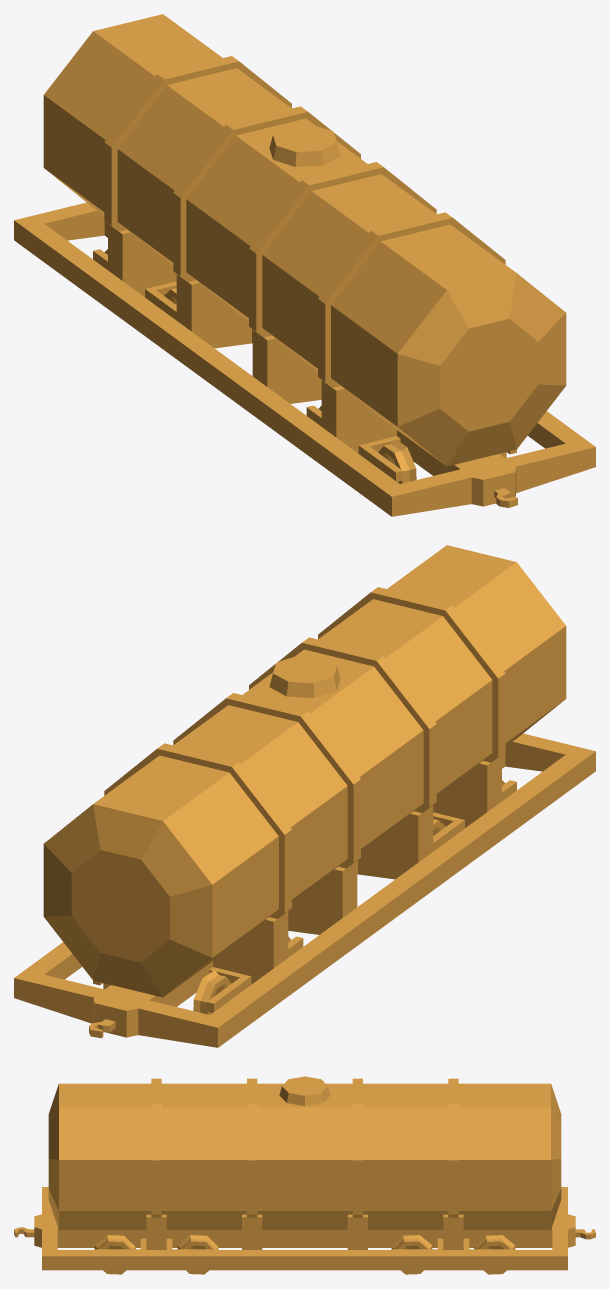
Rendered from train-wagon-oil.glb.
3 views of the same model, one above another, from view 1: azimuth 30°, elevation 25°; view 2: azimuth 150°, elevation 25°; view 3: azimuth 270°, elevation 25° (orthographic). The views are drawn at different scales.
Parts seen in each view (by area): view 1: train-wagon-oil-base, train-wagon-oil-wheel-front_F, train-wagon-oil-wheel_F1, train-wagon-oil-wheel-front_B; view 2: train-wagon-oil-base, train-wagon-oil-wheel-front_B, train-wagon-oil-wheel_B2, train-wagon-oil-wheel-front_F; view 3: train-wagon-oil-base, train-wagon-oil-wheel_F1, train-wagon-oil-wheel_B2, train-wagon-oil-wheel_F2, train-wagon-oil-wheel_B1.
Part boxes in pixels (box(x1,y1,x2,y2)): train-wagon-oil-base: box(14, 14, 595, 516); train-wagon-oil-wheel-front_F: box(306, 405, 516, 481); train-wagon-oil-wheel_F1: box(378, 439, 506, 483); train-wagon-oil-wheel-front_B: box(93, 249, 176, 320); train-wagon-oil-base: box(14, 545, 595, 1047); train-wagon-oil-wheel-front_B: box(93, 936, 303, 1012); train-wagon-oil-wheel_B2: box(103, 970, 231, 1014); train-wagon-oil-wheel-front_F: box(433, 780, 516, 851); train-wagon-oil-base: box(14, 1076, 595, 1270); train-wagon-oil-wheel_F1: box(94, 1235, 135, 1274); train-wagon-oil-wheel_B2: box(474, 1235, 515, 1274); train-wagon-oil-wheel_F2: box(177, 1235, 218, 1274); train-wagon-oil-wheel_B1: box(391, 1235, 432, 1274).
Size of the model in its own units: 3.2 by 3.73 by 11.36.
